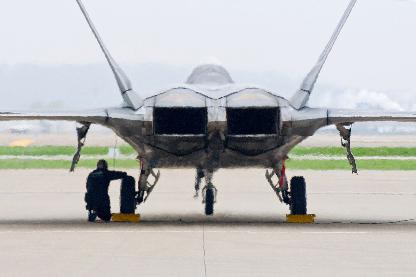F18: (0, 0, 415, 214)
